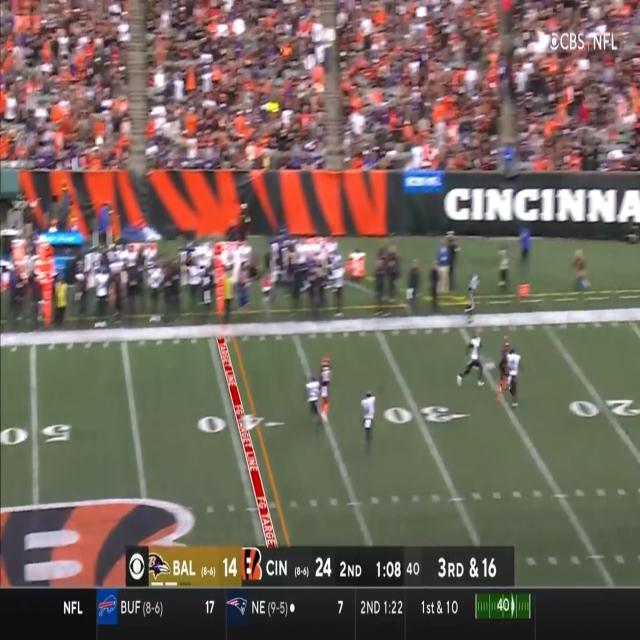Ball: (305, 41, 316, 57)
